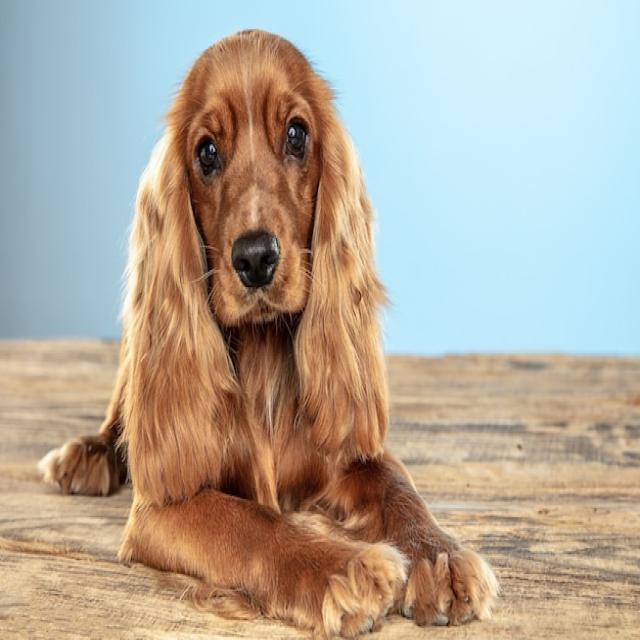Dog: (39, 27, 502, 640)
